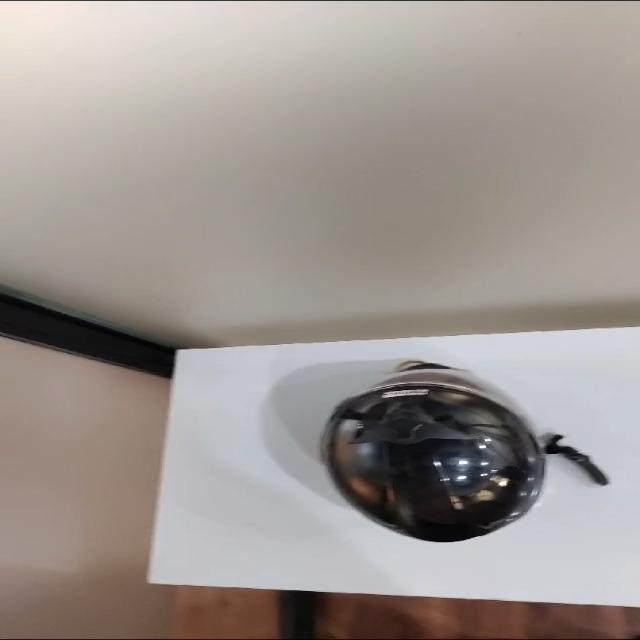helmet: (323, 361, 608, 541)
